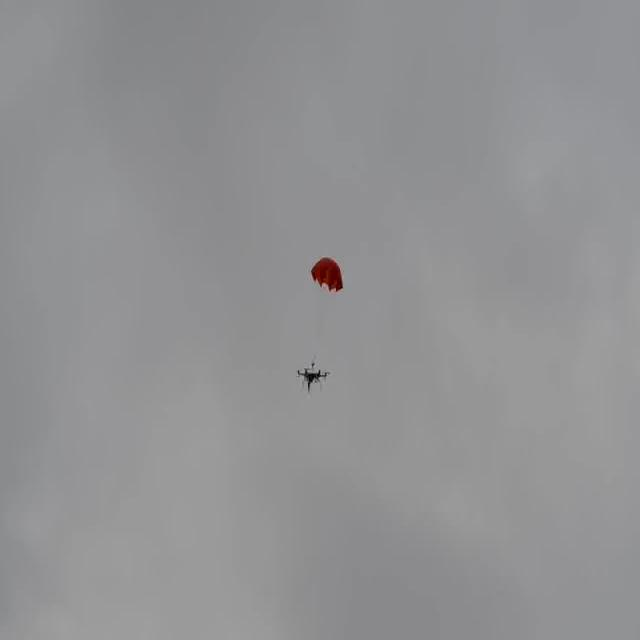drone: (294, 359, 328, 397)
